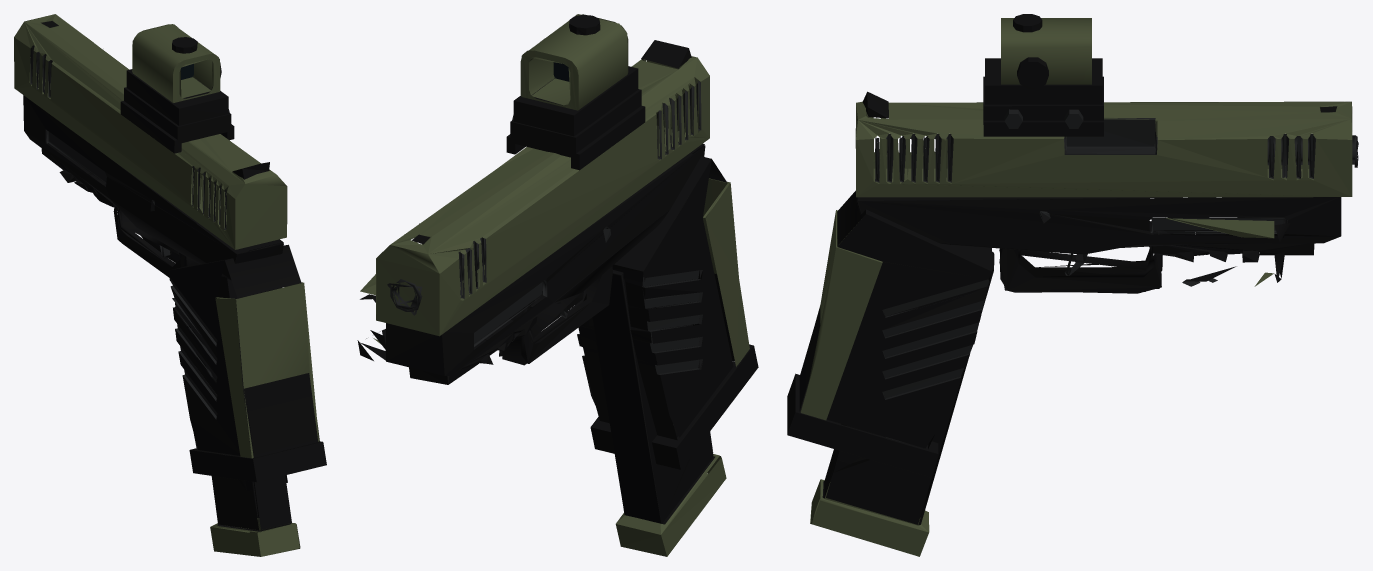
File: pistol_s1_bo.glb
3 views of the same model, side by side, from view 1: azimuth 30°, elevation 25°; view 2: azimuth 150°, elevation 25°; view 3: azimuth 270°, elevation 25° (orthographic). The views are drawn at different scales.
Parts seen in each view (by area): view 1: grip, upper, optic, receiver, magazine, trigger_guard; view 2: upper, grip, receiver, optic, magazine, trigger_guard, barrel, laser; view 3: upper, grip, receiver, optic, magazine, trigger_guard, laser, barrel.
Boxes of the visible parts, left/top/right/bottom form: grip: left=168, top=244, right=326, bottom=482; upper: left=14, top=14, right=287, bottom=249; optic: left=120, top=24, right=234, bottom=153; receiver: left=23, top=95, right=283, bottom=280; magazine: left=191, top=276, right=300, bottom=556; trigger_guard: left=113, top=201, right=197, bottom=277; upper: left=376, top=40, right=709, bottom=336; grip: left=577, top=154, right=758, bottom=469; receiver: left=386, top=143, right=705, bottom=384; optic: left=506, top=14, right=645, bottom=170; magazine: left=592, top=268, right=726, bottom=556; trigger_guard: left=499, top=266, right=612, bottom=365; barrel: left=387, top=238, right=486, bottom=315; laser: left=357, top=274, right=385, bottom=360; upper: left=855, top=91, right=1352, bottom=197; grip: left=787, top=190, right=991, bottom=476; receiver: left=856, top=197, right=1341, bottom=262; optic: left=983, top=14, right=1103, bottom=136; magazine: left=810, top=245, right=994, bottom=556; trigger_guard: left=999, top=221, right=1162, bottom=293; laser: left=1166, top=217, right=1290, bottom=286; barrel: left=1064, top=135, right=1358, bottom=167.
Size of the model in its own units: 0.06 by 0.2168 by 0.2131.
